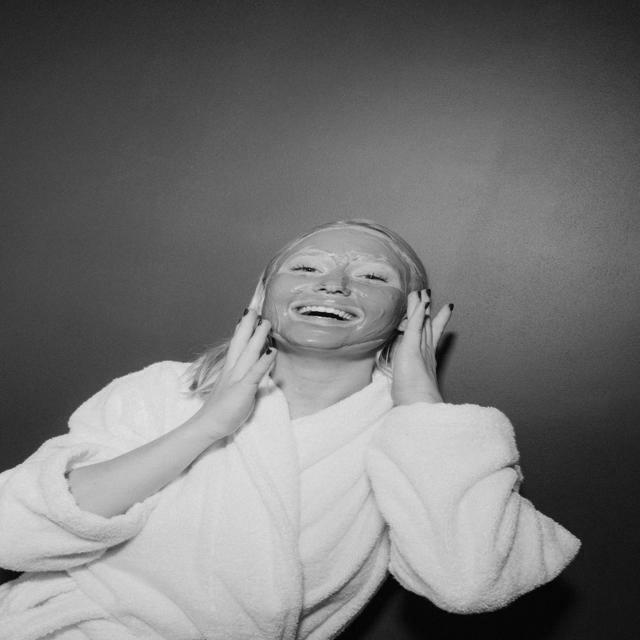Happiness: (262, 226, 412, 354)
